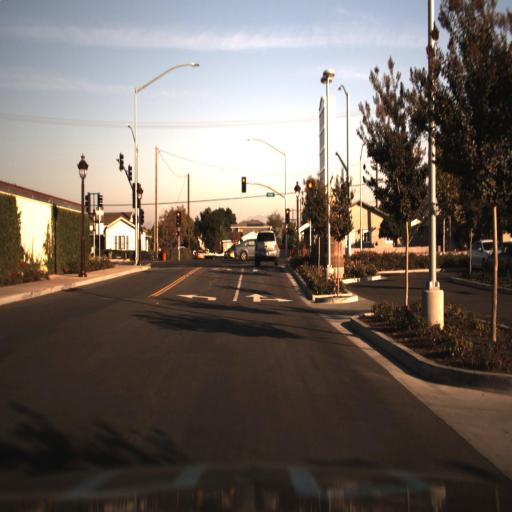car: (462, 234, 502, 274), (252, 227, 281, 264), (463, 239, 487, 278), (233, 235, 262, 262)
trafficLight-Red: (175, 208, 183, 232), (238, 176, 248, 195), (284, 206, 292, 225), (305, 178, 313, 196), (239, 174, 246, 190), (282, 205, 290, 218), (174, 209, 182, 221)
